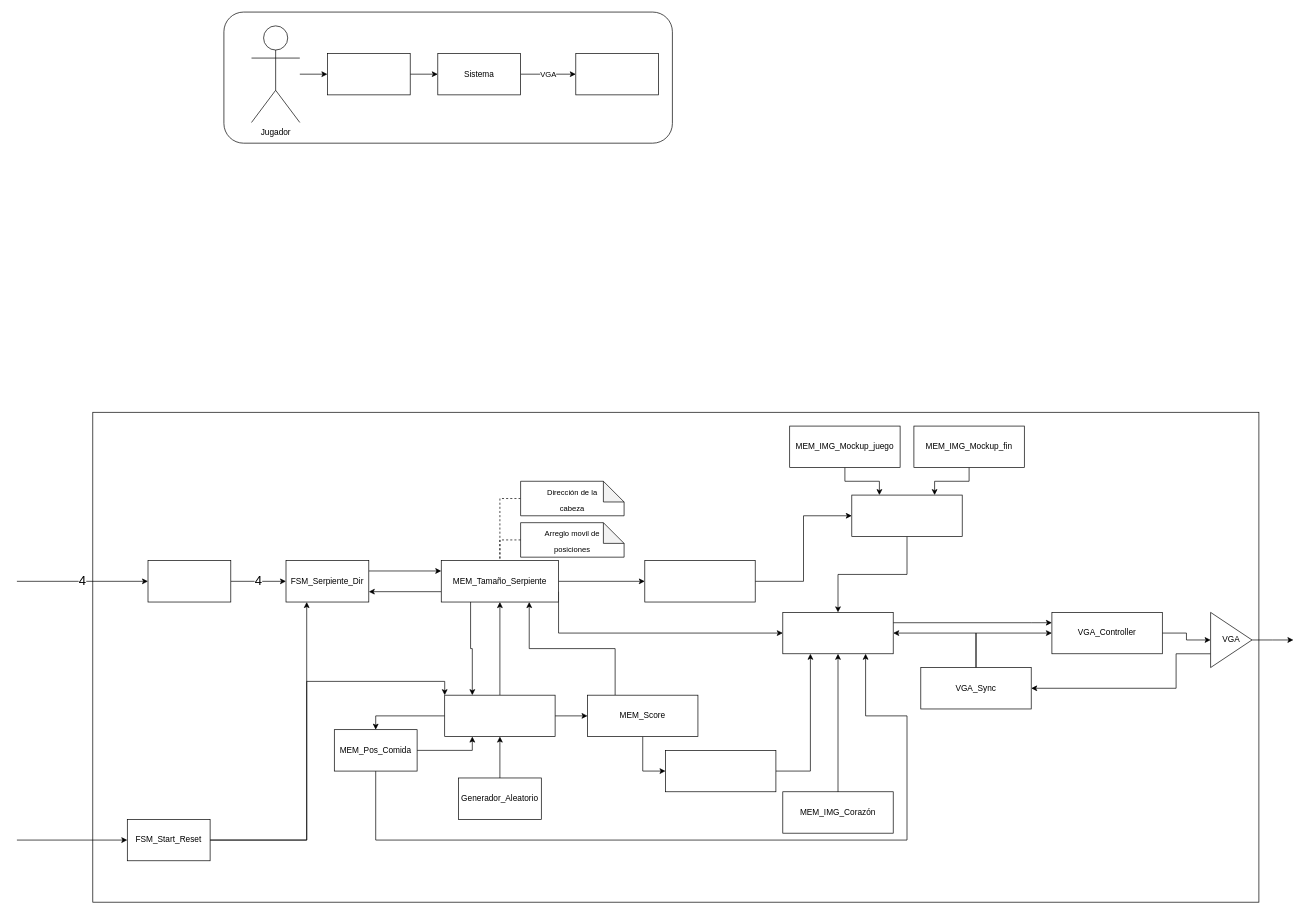
Some shapes in this 1311 by 914 pixel diagram are drawn without their labels. Each missing label, with the centre of its shape:
Antirrebote: point (189, 581)
Control: point (368, 74)
FSM_Serpiente_Comida: point (499, 715)
MEM_IMG_Score: point (720, 771)
Mockup_Controller: point (906, 515)
Pixel_Controller: point (837, 633)
Reglas_Serpiente: point (699, 581)
Televisor: point (617, 74)
